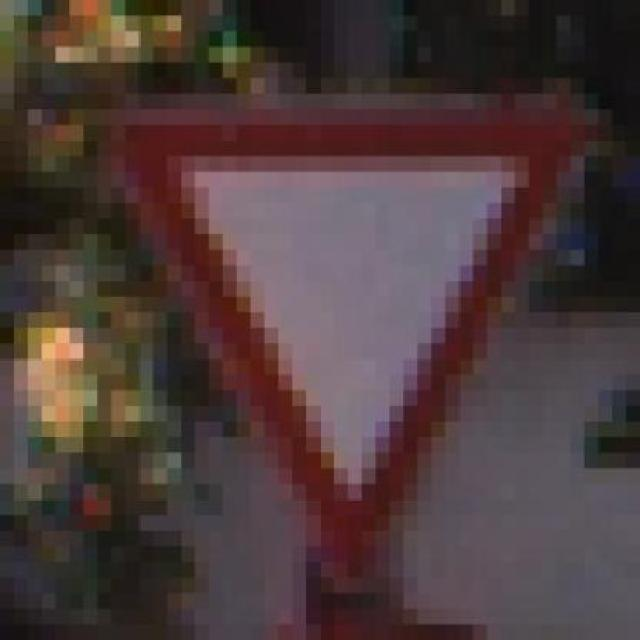Give Way: (95, 61, 623, 592)
